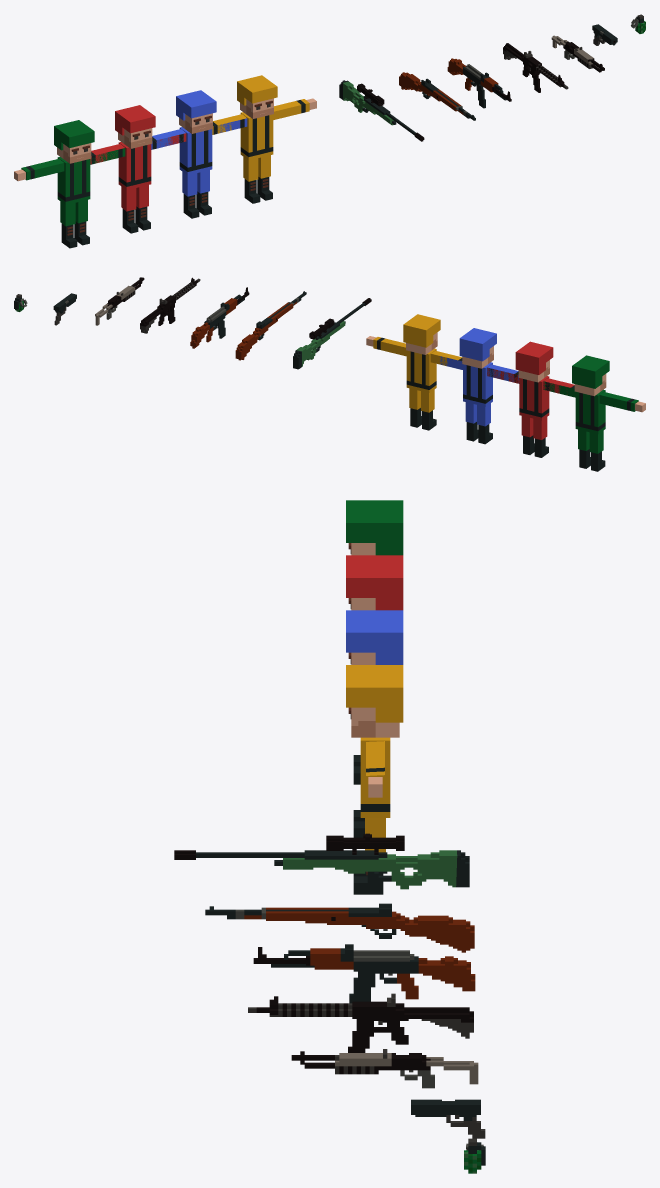
File: ally-character.gltf
3 renders of one model, top to bottom at view 1: azimuth 30°, elevation 25°; view 2: azimuth 150°, elevation 25°; view 3: azimuth 270°, elevation 25°, orthographic. The views are drawn at different scales.
Visible parts, largest first — view 1: Body_Green, Body_Yellow, Body_Blue, Body_Red, Body_Head_Green, Body_Head_Red, Body_Head_Yellow, Body_Head_Blue, AWP, AK_74, M_4, Mauser_98 (+2 smaller); view 2: Body_Green, Body_Yellow, Body_Blue, Body_Red, Body_Head_Red, Body_Head_Green, Body_Head_Blue, Body_Head_Yellow, AWP, AK_74, Mauser_98, M_4 (+2 smaller); view 3: AWP, AK_74, Mauser_98, M_4, Body_Head_Yellow, Body_Yellow, Spas_12, Body_Head_Green, Body_Head_Red, Body_Head_Blue, Glock_48.
Boxes of the visible parts, box(x1,y1,x2,y2) form: Body_Green: box(14, 148, 125, 248); Body_Yellow: box(212, 98, 316, 203); Body_Blue: box(151, 118, 247, 218); Body_Red: box(90, 133, 186, 233); Body_Head_Green: box(54, 120, 94, 163); Body_Head_Red: box(115, 105, 155, 148); Body_Head_Yellow: box(237, 75, 277, 118); Body_Head_Blue: box(176, 90, 216, 133); AWP: box(339, 80, 424, 141); AK_74: box(447, 58, 511, 108); M_4: box(503, 43, 568, 92); Mauser_98: box(399, 72, 475, 120); Body_Green: box(543, 381, 645, 471); Body_Yellow: box(366, 336, 462, 430); Body_Blue: box(439, 356, 519, 444); Body_Red: box(487, 368, 574, 457); Body_Head_Red: box(515, 341, 553, 382); Body_Head_Green: box(572, 355, 609, 396); Body_Head_Blue: box(459, 328, 496, 368); Body_Head_Yellow: box(403, 314, 440, 354); AWP: box(293, 298, 371, 369); AK_74: box(190, 287, 249, 348); Mauser_98: box(235, 291, 306, 360); M_4: box(140, 277, 200, 333); AWP: box(174, 833, 469, 889); AK_74: box(253, 944, 475, 1003); Mauser_98: box(205, 903, 474, 952); M_4: box(248, 993, 473, 1052); Body_Head_Yellow: box(346, 665, 403, 737); Body_Yellow: box(353, 737, 390, 894); Spas_12: box(291, 1049, 478, 1088); Body_Head_Green: box(346, 500, 403, 555); Body_Head_Red: box(346, 555, 403, 610); Body_Head_Blue: box(346, 610, 403, 664); Glock_48: box(411, 1099, 485, 1138).
Size of the model in its own units: 10.74 by 1.77 by 2.39.
1 material, 1 textured.
